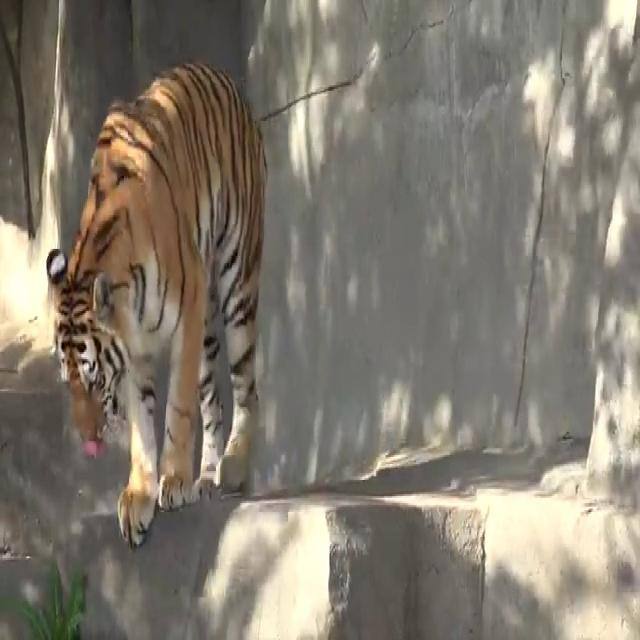tiger: (47, 63, 268, 548)
